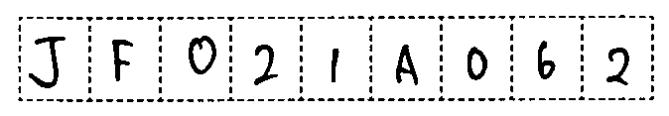0: (180, 31, 219, 80), (462, 40, 496, 86)
1: (318, 41, 355, 89)
2: (244, 41, 284, 87), (598, 42, 632, 90)
6: (530, 37, 564, 86)
A: (389, 40, 427, 91)
F: (103, 34, 142, 88)
J: (24, 31, 72, 92)
